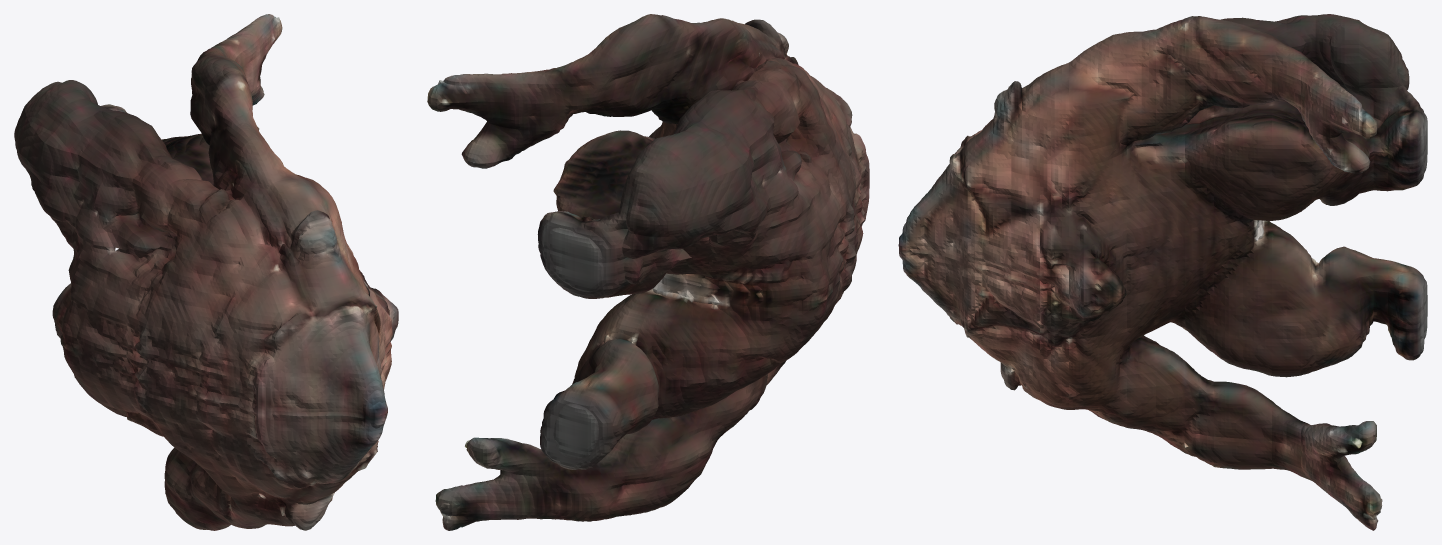
File: devilCat.glb
3 renders of one model, left to right at view 1: azimuth 30°, elevation 25°; view 2: azimuth 150°, elevation 25°; view 3: azimuth 270°, elevation 25°, orthographic. The views are drawn at different scales.
Visible parts, largest first — view 1: world; view 2: world; view 3: world.
Part boxes in pixels (x1,y1,x2,y2): world: (14,14,398,530); world: (427,14,869,530); world: (898,14,1427,530).
Bounding box in the file's own units: 0.6447 × 0.9487 × 0.9928.
